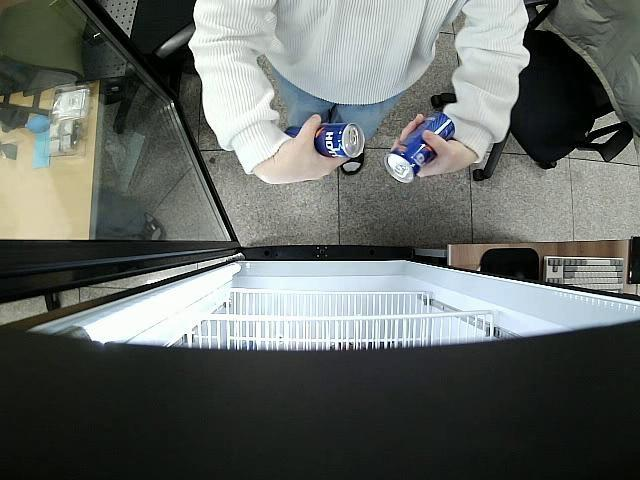16_hot6: (384, 111, 454, 184), (282, 124, 366, 158)
